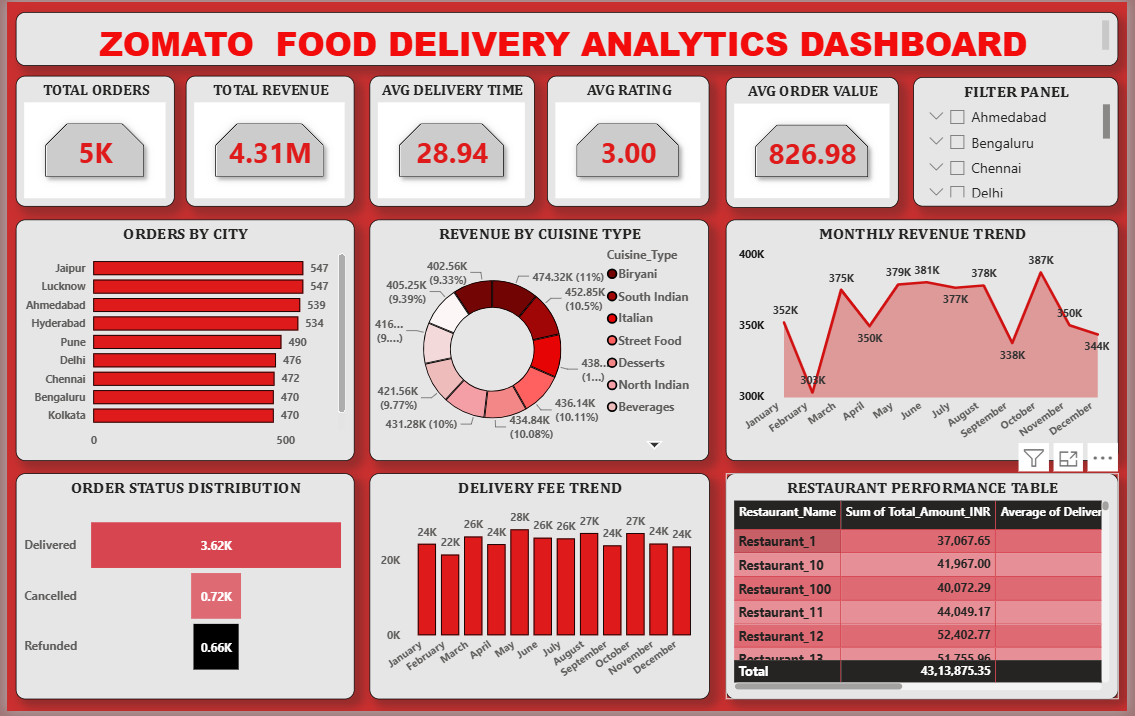

This screenshot's page, from the dashboard's own definition file:
{"tool":"powerbi","page":{"name":"Page 1","canvas":[1280,810],"ordinal":0},"visuals":[{"type":"textbox","box":[10,11.4,1260,61.4],"z":0},{"type":"cardVisual","title":"TOTAL ORDERS","fields":{"Data":["Count(Zomato_dataset.Order_ID)"]},"box":[9.6,83.9,181.6,149.9],"z":1000},{"type":"cardVisual","title":"TOTAL REVENUE","fields":{"Data":["Sum(Zomato_dataset.Total_Amount_INR)"]},"box":[205,83.9,192.6,149.9],"z":2000},{"type":"cardVisual","title":"AVG DELIVERY TIME","fields":{"Data":["Avg(Zomato_dataset.Delivery_Time_Mins)"]},"box":[414.1,83.9,188.5,149.9],"z":3000},{"type":"cardVisual","title":"AVG RATING","fields":{"Data":["Avg(Zomato_dataset.Customer_Rating)"]},"box":[617.7,83.9,185.7,149.9],"z":4000},{"type":"cardVisual","title":"AVG ORDER VALUE","fields":{"Data":["Avg(Zomato_dataset.Order_Value_INR)"]},"box":[822,85.1,197.6,149.6],"z":5000},{"type":"clusteredBarChart","title":"ORDERS BY CITY","fields":{"Category":["Zomato_dataset.City"],"Y":["CountNonNull(Zomato_dataset.Order_Value_INR)"]},"box":[9.6,248.4,387,275.8],"z":6000},{"type":"donutChart","title":"REVENUE BY CUISINE TYPE","fields":{"Category":["Zomato_dataset.Cuisine_Type"],"Y":["Sum(Zomato_dataset.Total_Amount_INR)"]},"box":[414.4,248.4,388.3,275.8],"z":7000},{"type":"lineChart","title":"MONTHLY REVENUE TREND","fields":{"Y":["Sum(Zomato_dataset.Total_Amount_INR)"],"Category":["Zomato_dataset.Date.Variation.Date Hierarchy.Month"]},"box":[822,248.4,448.7,275.8],"z":8000},{"type":"funnel","title":"ORDER STATUS DISTRIBUTION","fields":{"Category":["Zomato_dataset.Order_Status"],"Y":["CountNonNull(Zomato_dataset.Order_ID)"]},"box":[10,538.6,387.1,258.6],"z":9000},{"type":"clusteredColumnChart","title":"DELIVERY FEE TREND","fields":{"Category":["Zomato_dataset.Date.Variation.Date Hierarchy.Month"],"Y":["Sum(Zomato_dataset.Delivery_Fee_INR)"]},"box":[414.3,538.6,388.6,258.6],"z":10000},{"type":"pivotTable","title":"RESTAURANT PERFORMANCE TABLE","fields":{"Rows":["Zomato_dataset.Restaurant_Name"],"Values":["Sum(Zomato_dataset.Total_Amount_INR)","Avg(Zomato_dataset.Delivery_Time_Mins)","Sum(Zomato_dataset.Customer_Rating)","Min(Zomato_dataset.Order_ID)"]},"box":[821.4,538.6,448.6,258.6],"z":11000},{"type":"slicer","title":"FILTER PANEL","fields":{"Values":["Zomato_dataset.City","Zomato_dataset.Cuisine_Type"]},"box":[1036,85.1,234.6,148.2],"z":12000}]}

Visuals, with their boxes in screenshot pixels (x1, y1, x2, y2), scaled from the page's 1280x810 canvas onto the 1135x716 screenshot:
textbox: box=[9, 10, 1126, 64]
"TOTAL ORDERS" cardVisual: box=[9, 74, 170, 207]
"TOTAL REVENUE" cardVisual: box=[182, 74, 353, 207]
"AVG DELIVERY TIME" cardVisual: box=[367, 74, 534, 207]
"AVG RATING" cardVisual: box=[548, 74, 712, 207]
"AVG ORDER VALUE" cardVisual: box=[729, 75, 904, 207]
"ORDERS BY CITY" clusteredBarChart: box=[9, 220, 352, 463]
"REVENUE BY CUISINE TYPE" donutChart: box=[367, 220, 712, 463]
"MONTHLY REVENUE TREND" lineChart: box=[729, 220, 1127, 463]
"ORDER STATUS DISTRIBUTION" funnel: box=[9, 476, 352, 705]
"DELIVERY FEE TREND" clusteredColumnChart: box=[367, 476, 712, 705]
"RESTAURANT PERFORMANCE TABLE" pivotTable: box=[728, 476, 1126, 705]
"FILTER PANEL" slicer: box=[919, 75, 1127, 206]
